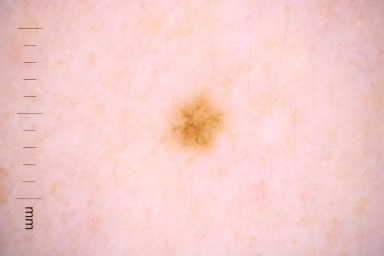seborrheic keratosis: (151, 85, 237, 160)
